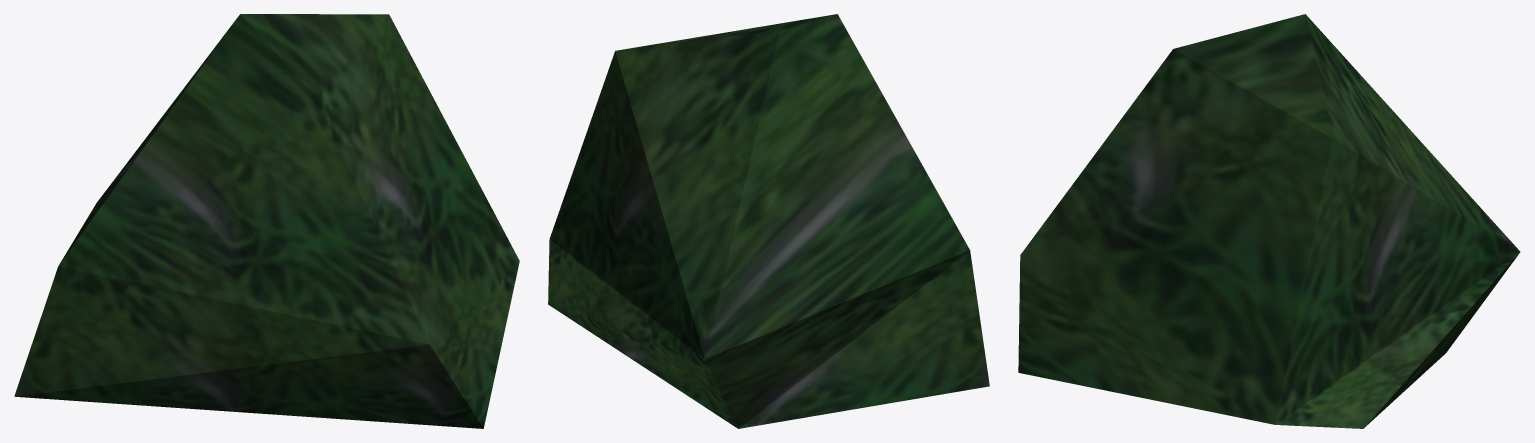
File: TheOctagon_Floor_2_Rock_1.001.gltf
3 renders of one model, left to right at view 1: azimuth 30°, elevation 25°; view 2: azimuth 150°, elevation 25°; view 3: azimuth 270°, elevation 25°, orthographic. The views are drawn at different scales.
Parts seen in each view (by area): view 1: TheOctagon_Floor_2_Rock_1.001; view 2: TheOctagon_Floor_2_Rock_1.001; view 3: TheOctagon_Floor_2_Rock_1.001.
Boxes of the visible parts, bbox=[...] form: TheOctagon_Floor_2_Rock_1.001: bbox=[14, 14, 519, 428]; TheOctagon_Floor_2_Rock_1.001: bbox=[548, 14, 989, 428]; TheOctagon_Floor_2_Rock_1.001: bbox=[1018, 14, 1520, 428].
Bounding box in the file's own units: 20.5 × 14.7 × 18.97.
1 material, 1 textured.
